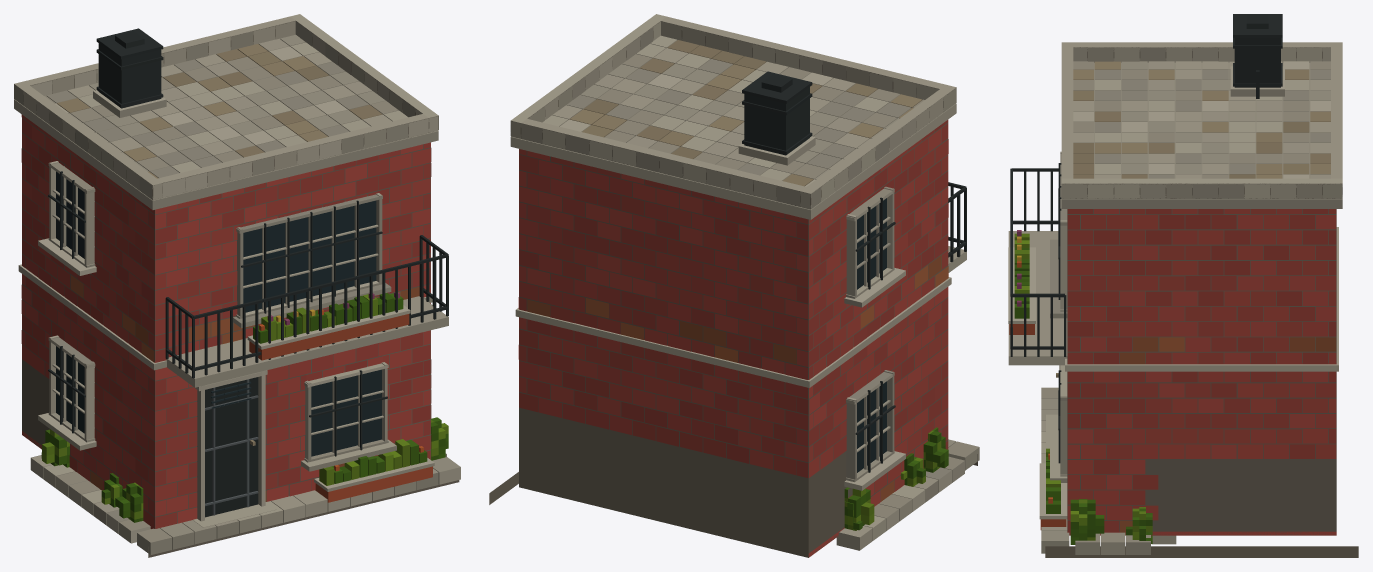
File: SM_StreetFrontage_094.fbx
3 views of the same model, side by side, from view 1: azimuth 30°, elevation 25°; view 2: azimuth 150°, elevation 25°; view 3: azimuth 270°, elevation 25° (orthographic). The views are drawn at different scales.
Parts seen in each view (by area): view 1: SM_StreetFrontage_094; view 2: SM_StreetFrontage_094; view 3: SM_StreetFrontage_094.
Part boxes in pixels (left/top/right/bottom): SM_StreetFrontage_094: left=14, top=14, right=460, bottom=557; SM_StreetFrontage_094: left=489, top=14, right=979, bottom=557; SM_StreetFrontage_094: left=1008, top=14, right=1358, bottom=557.
Size of the model in its own units: 8 by 7.51 by 10.12.
